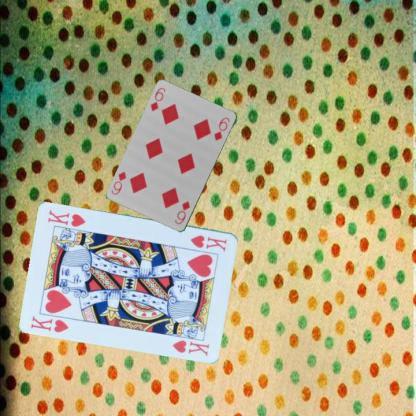6d: (172, 198, 191, 226), (148, 85, 167, 113)
Kh: (28, 313, 70, 334), (188, 232, 229, 252)
